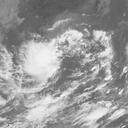cyclone: (20, 39, 61, 84)
